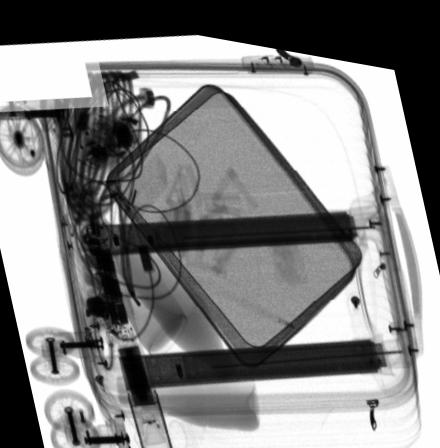Baton: (79, 219, 175, 448)
